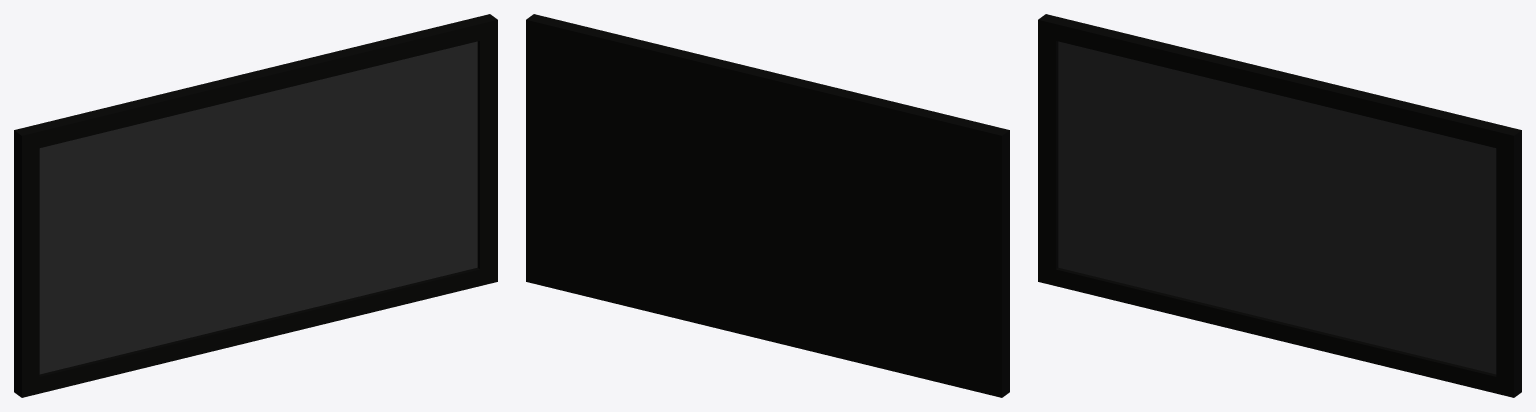
File: Itr_Obj_Monitor_LCD_Screen_Off_01.FBX
The picture shows the model from 3 angles, left to right: view 1: azimuth 30°, elevation 25°; view 2: azimuth 150°, elevation 25°; view 3: azimuth 330°, elevation 25°; orthographic projection.
Visible parts, largest first — view 1: Itr_Obj_Monitor_LCD_Screen_Off_01; view 2: Itr_Obj_Monitor_LCD_Screen_Off_01; view 3: Itr_Obj_Monitor_LCD_Screen_Off_01.
Boxes of the visible parts, x1,y1,x2,y2 form: Itr_Obj_Monitor_LCD_Screen_Off_01: [14, 14, 497, 397]; Itr_Obj_Monitor_LCD_Screen_Off_01: [526, 14, 1009, 397]; Itr_Obj_Monitor_LCD_Screen_Off_01: [1038, 14, 1521, 397].
Bounding box in the file's own units: 66.79 × 35.13 × 1.92.
